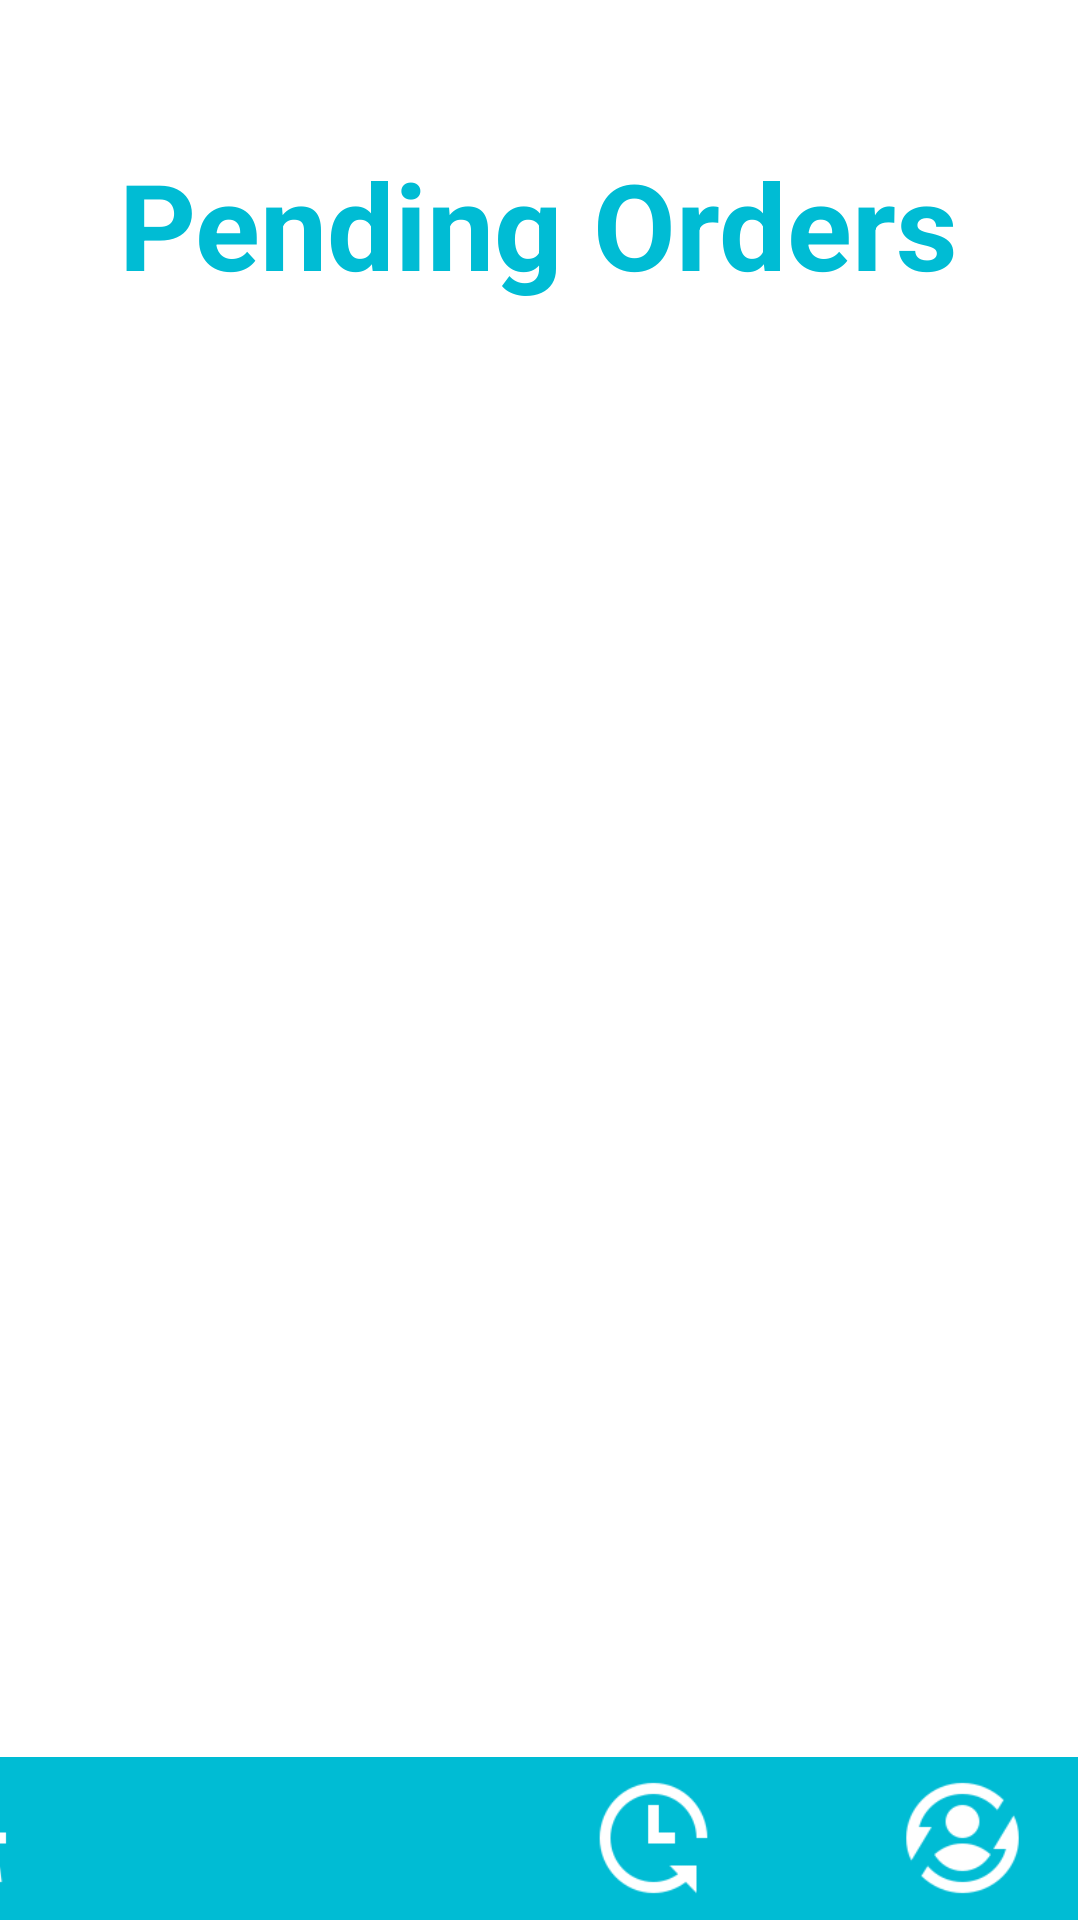

Icons on this 1080x1920 Android screen, each with its box as [x1,y1,x2,y2]:
deliverytime: [599,1782,708,1894]
lifecycle: [906,1782,1019,1894]
